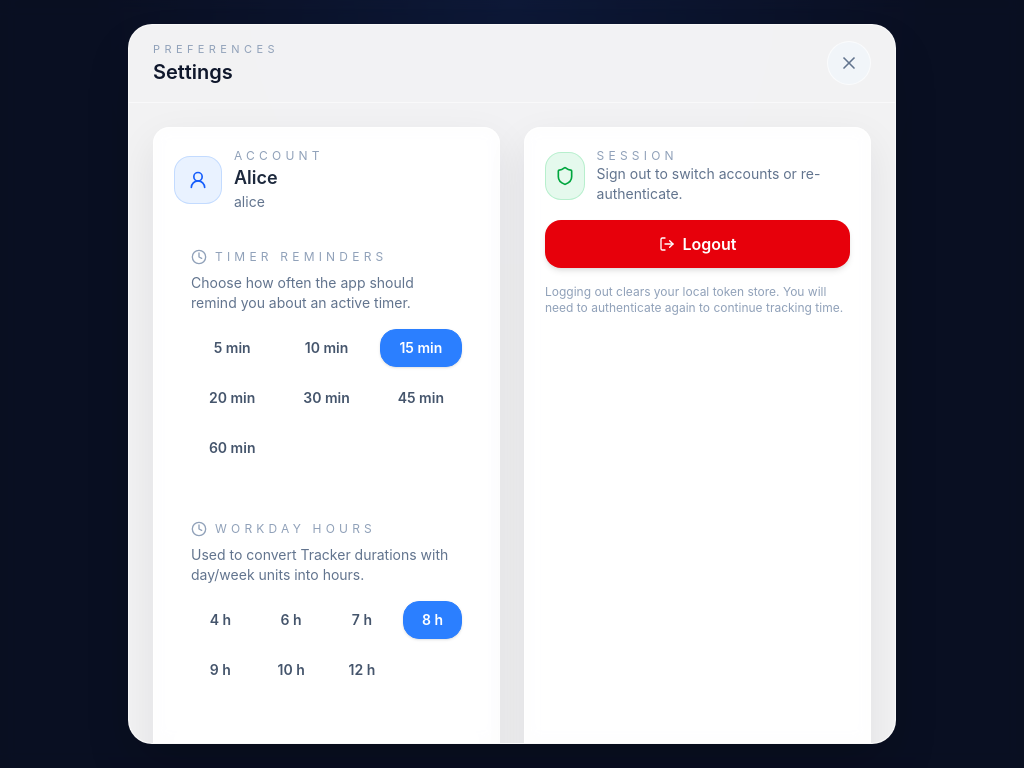
Test: SettingsDialog › saves interval and validates workday schedule
The image size is (1024, 768).
Click the button "30 min" at (326, 398), box [285, 378, 368, 416]
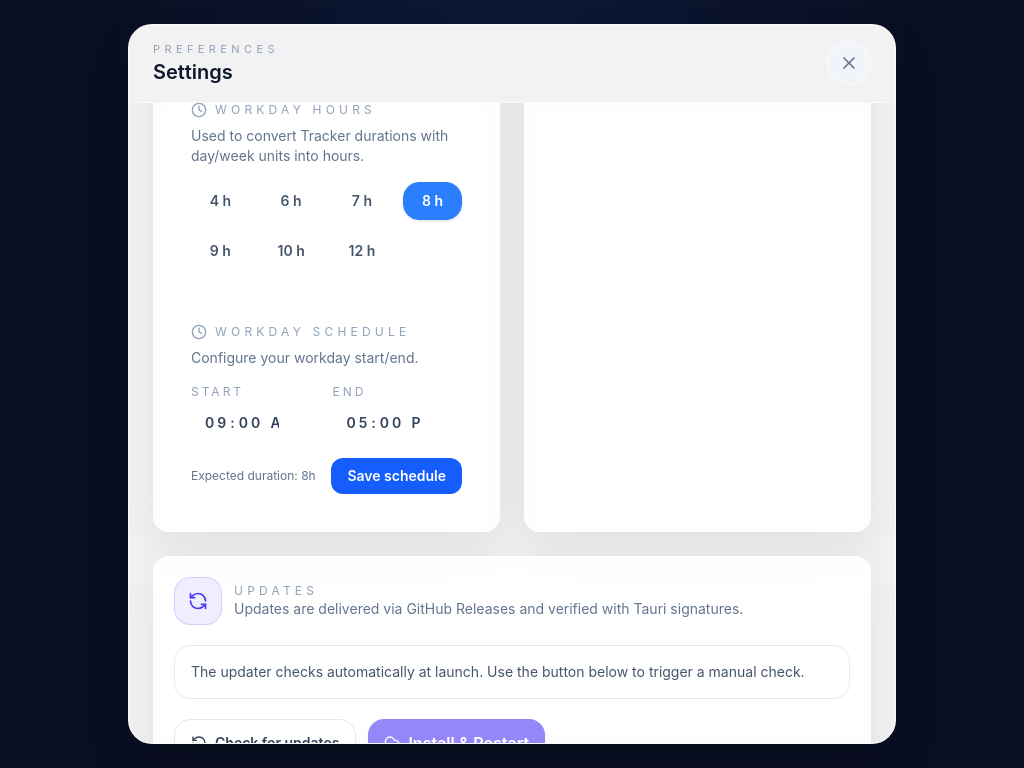
Replace the text in the time field showing "Start" with "10:00" at (256, 423), box [191, 404, 320, 442]
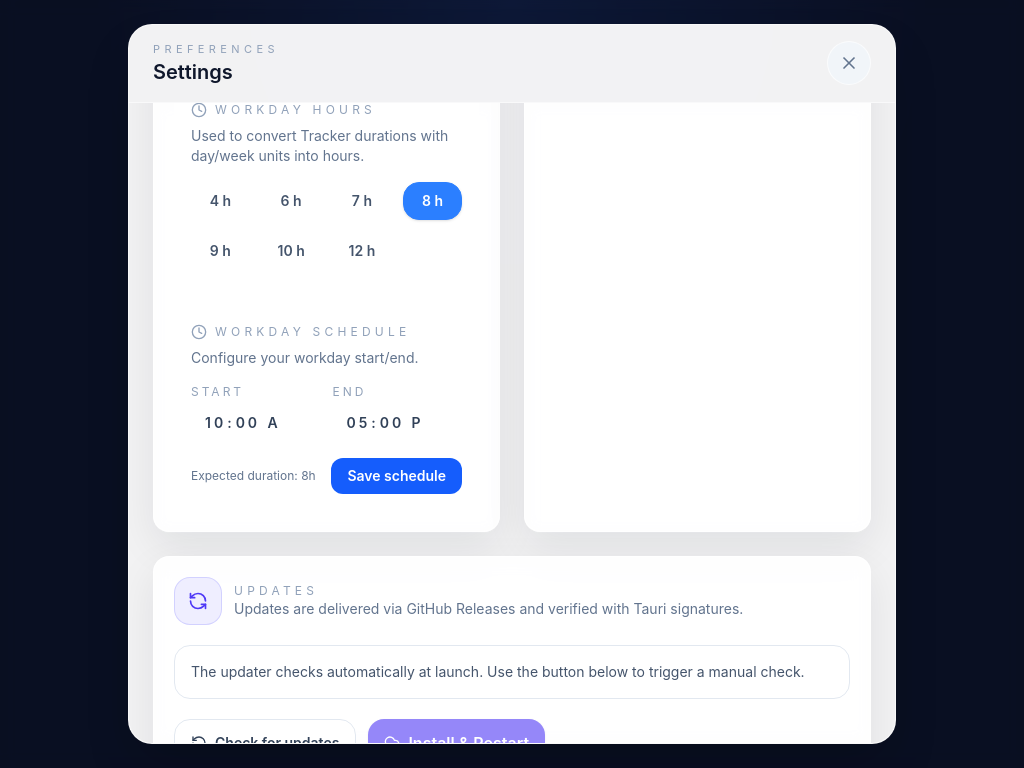
Replace the text in the time field showing "End" with "09:00" at (397, 423), box [332, 404, 462, 442]
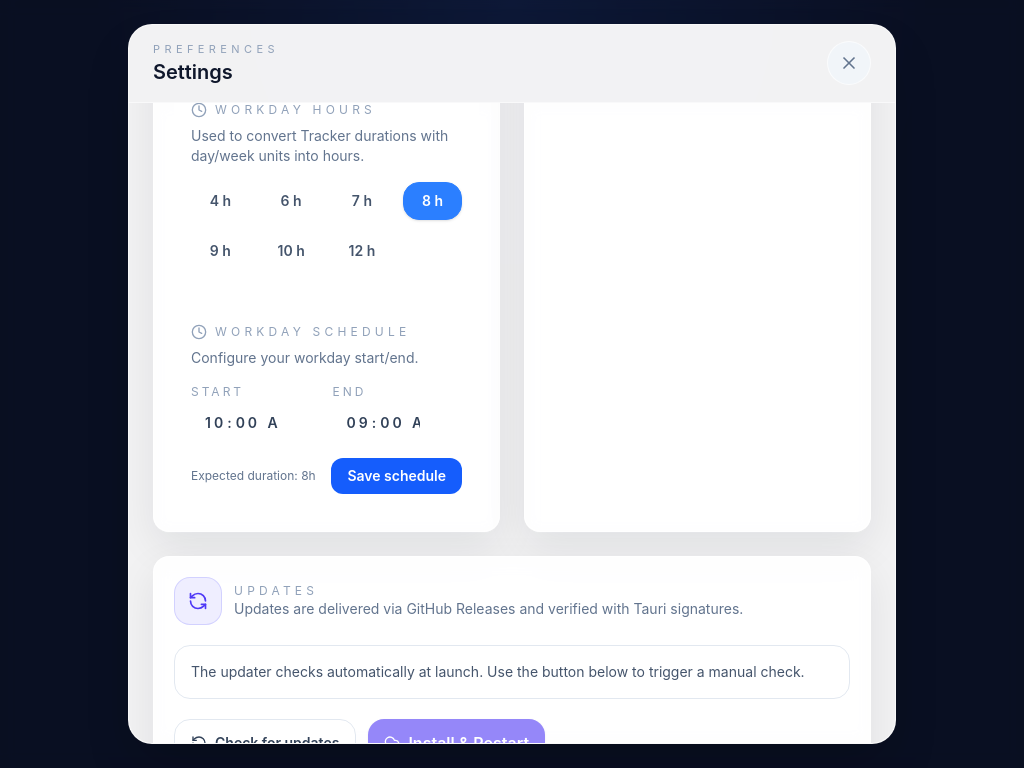
Click the button "Save schedule" at (397, 476), box [331, 458, 462, 494]
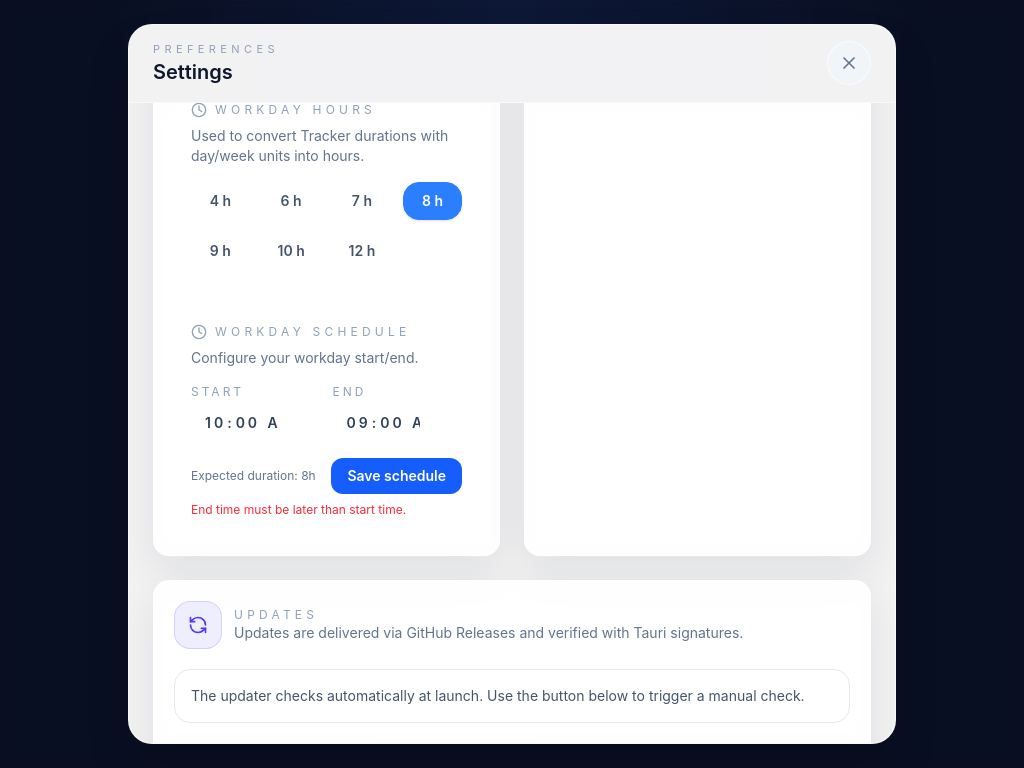
Expected: the text "End time must be later than start time." is shown, [191, 502, 406, 517]
